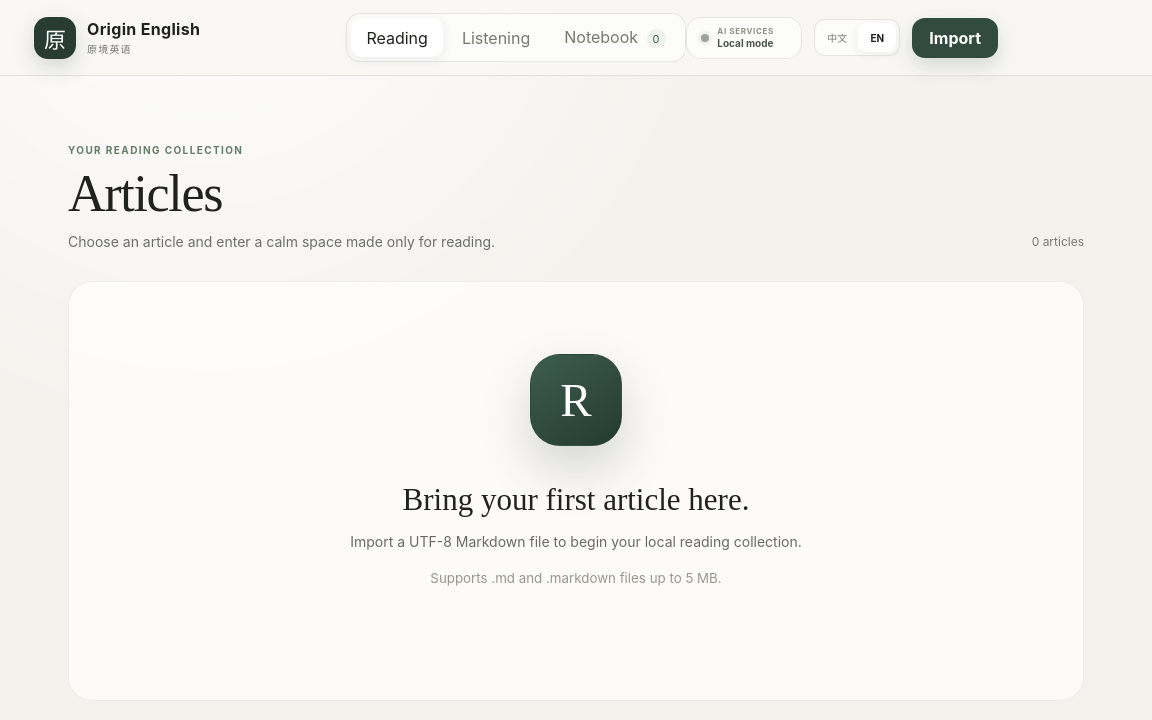
Test case: video component preparation in the application › lets the learner cancel an in-progress video import
Click the button "Listening" at [496, 38], box [447,18,545,57]
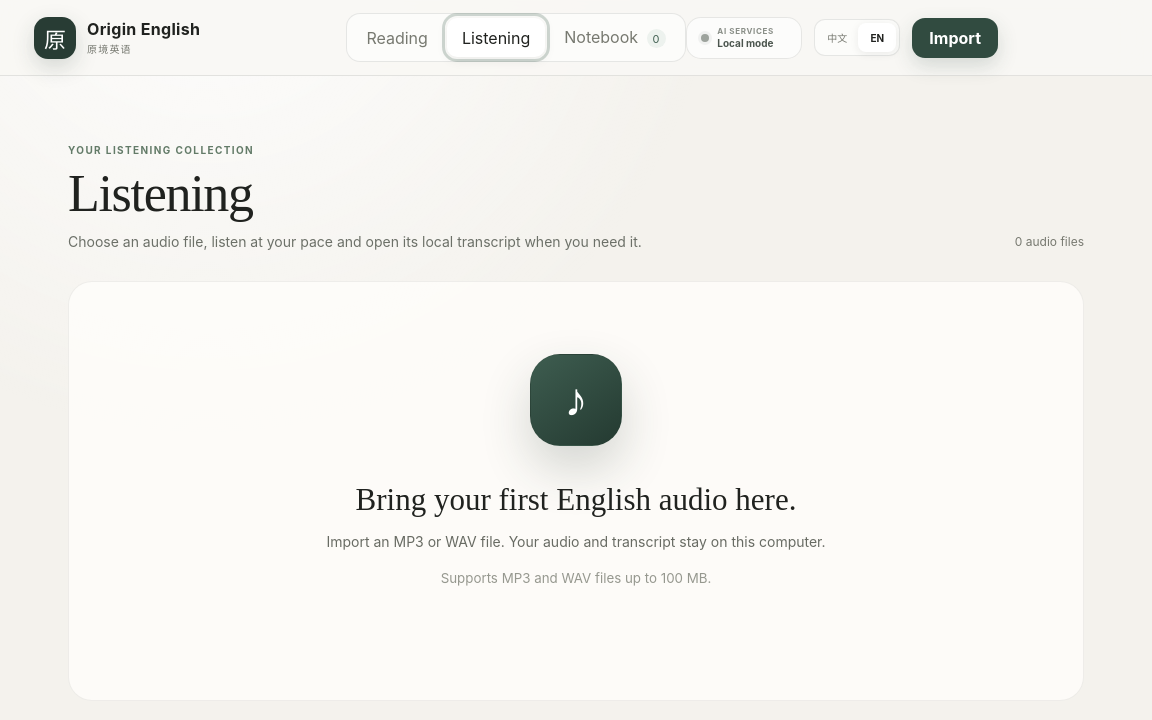
Click the button "Import" at [955, 38], box [912,18,998,58]
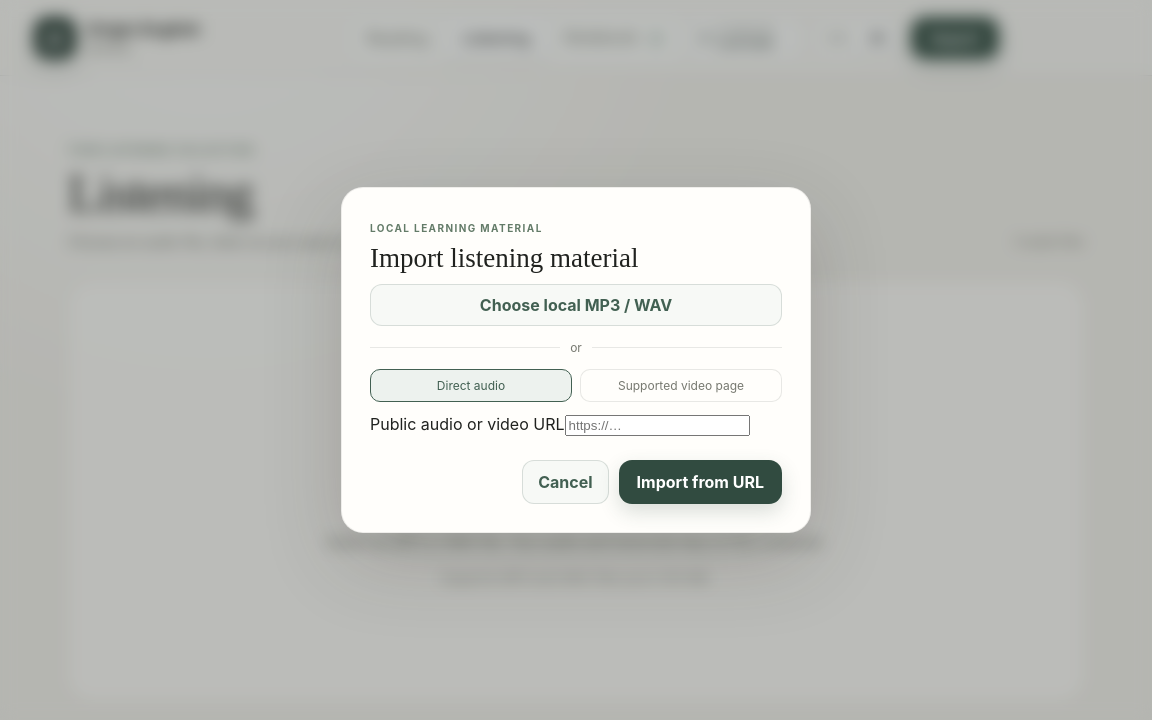
Click the button "Supported video page" at [681, 386], box [580,369,782,402]
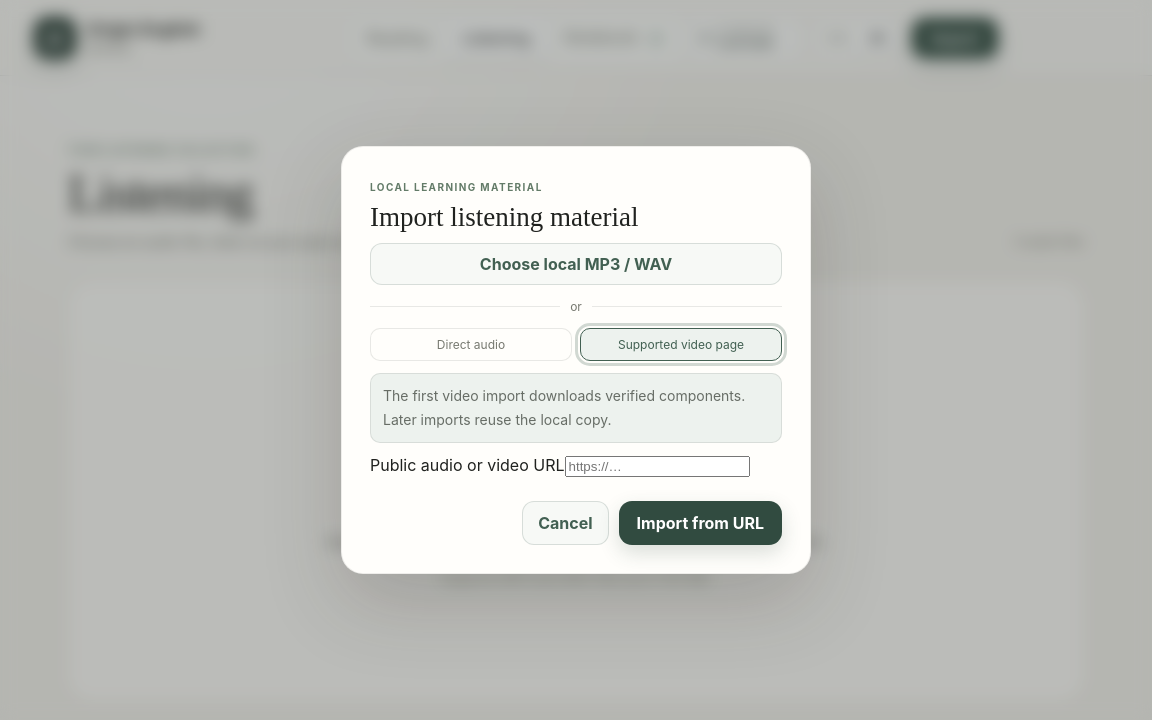
Type "https://commons.wikimedia.org/wiki/File:Cancel.webm" into the field labelled "Public audio or video URL" at [657, 466], box [564,456,750,477]
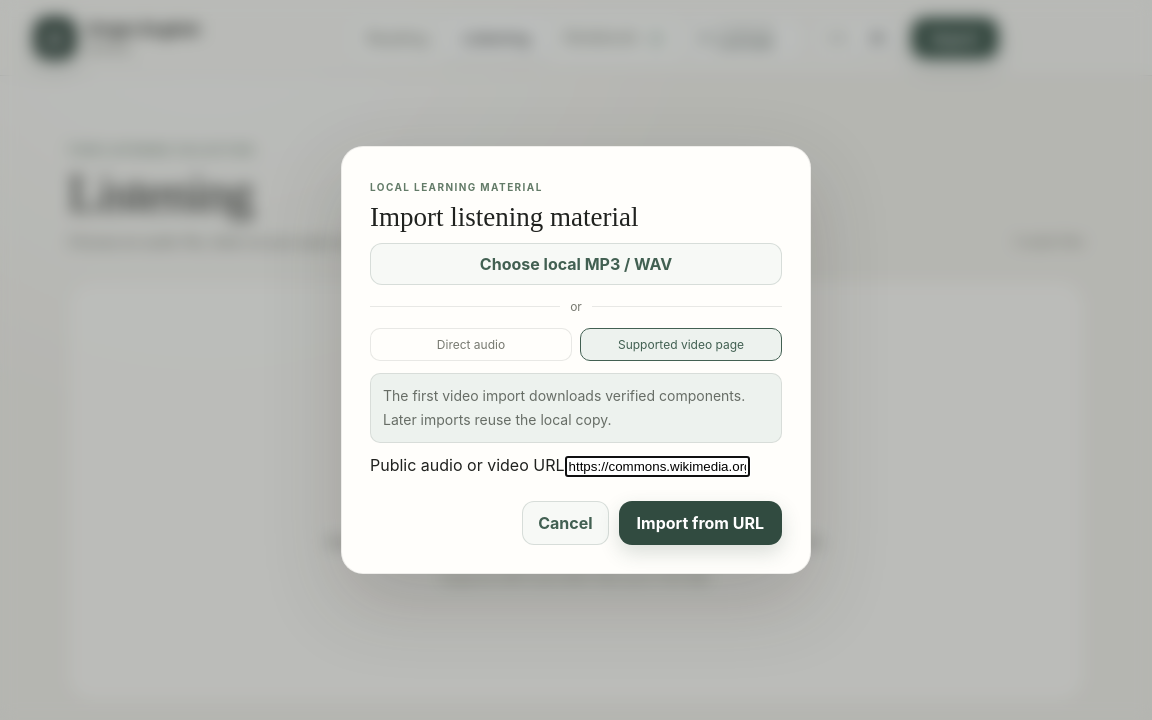
Click the button "Import from URL" at [700, 523], box [619,501,782,545]
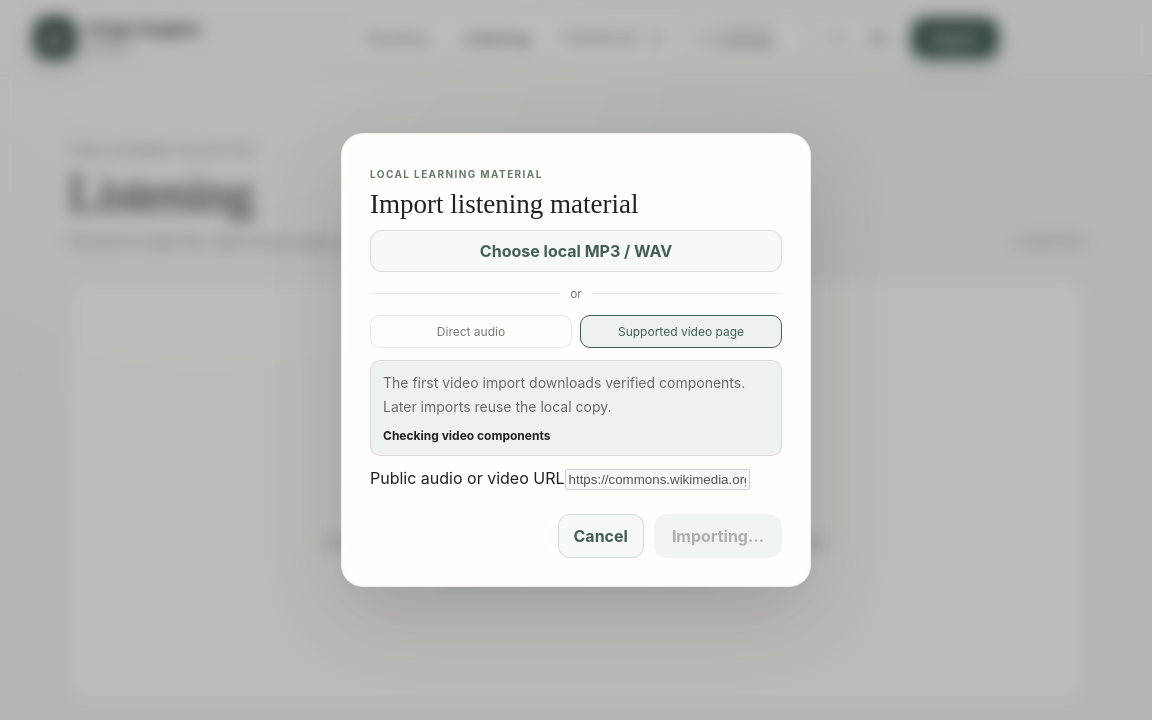
Expected: the text "Checking video components" is shown, [383,427,550,445]
Click the button "Cancel" at [601, 536], box [558,514,644,558]
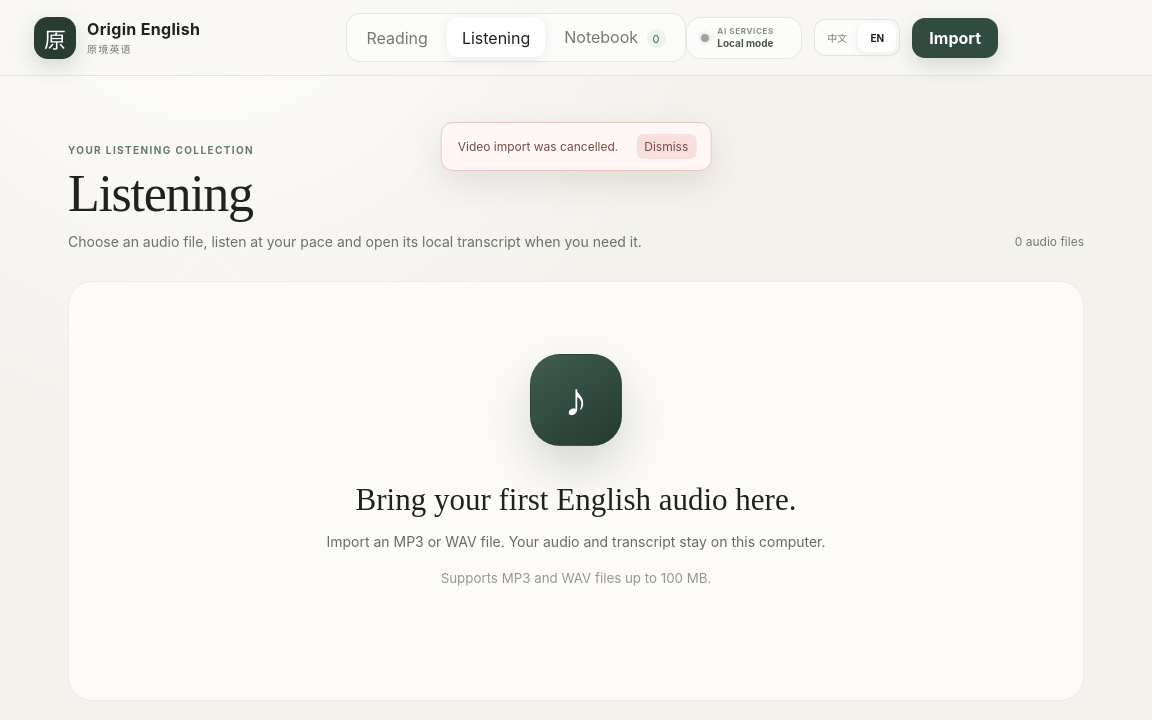
Expected: the dialog is gone
